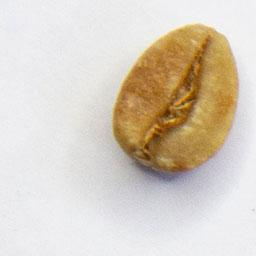defect: (107, 20, 242, 177)
